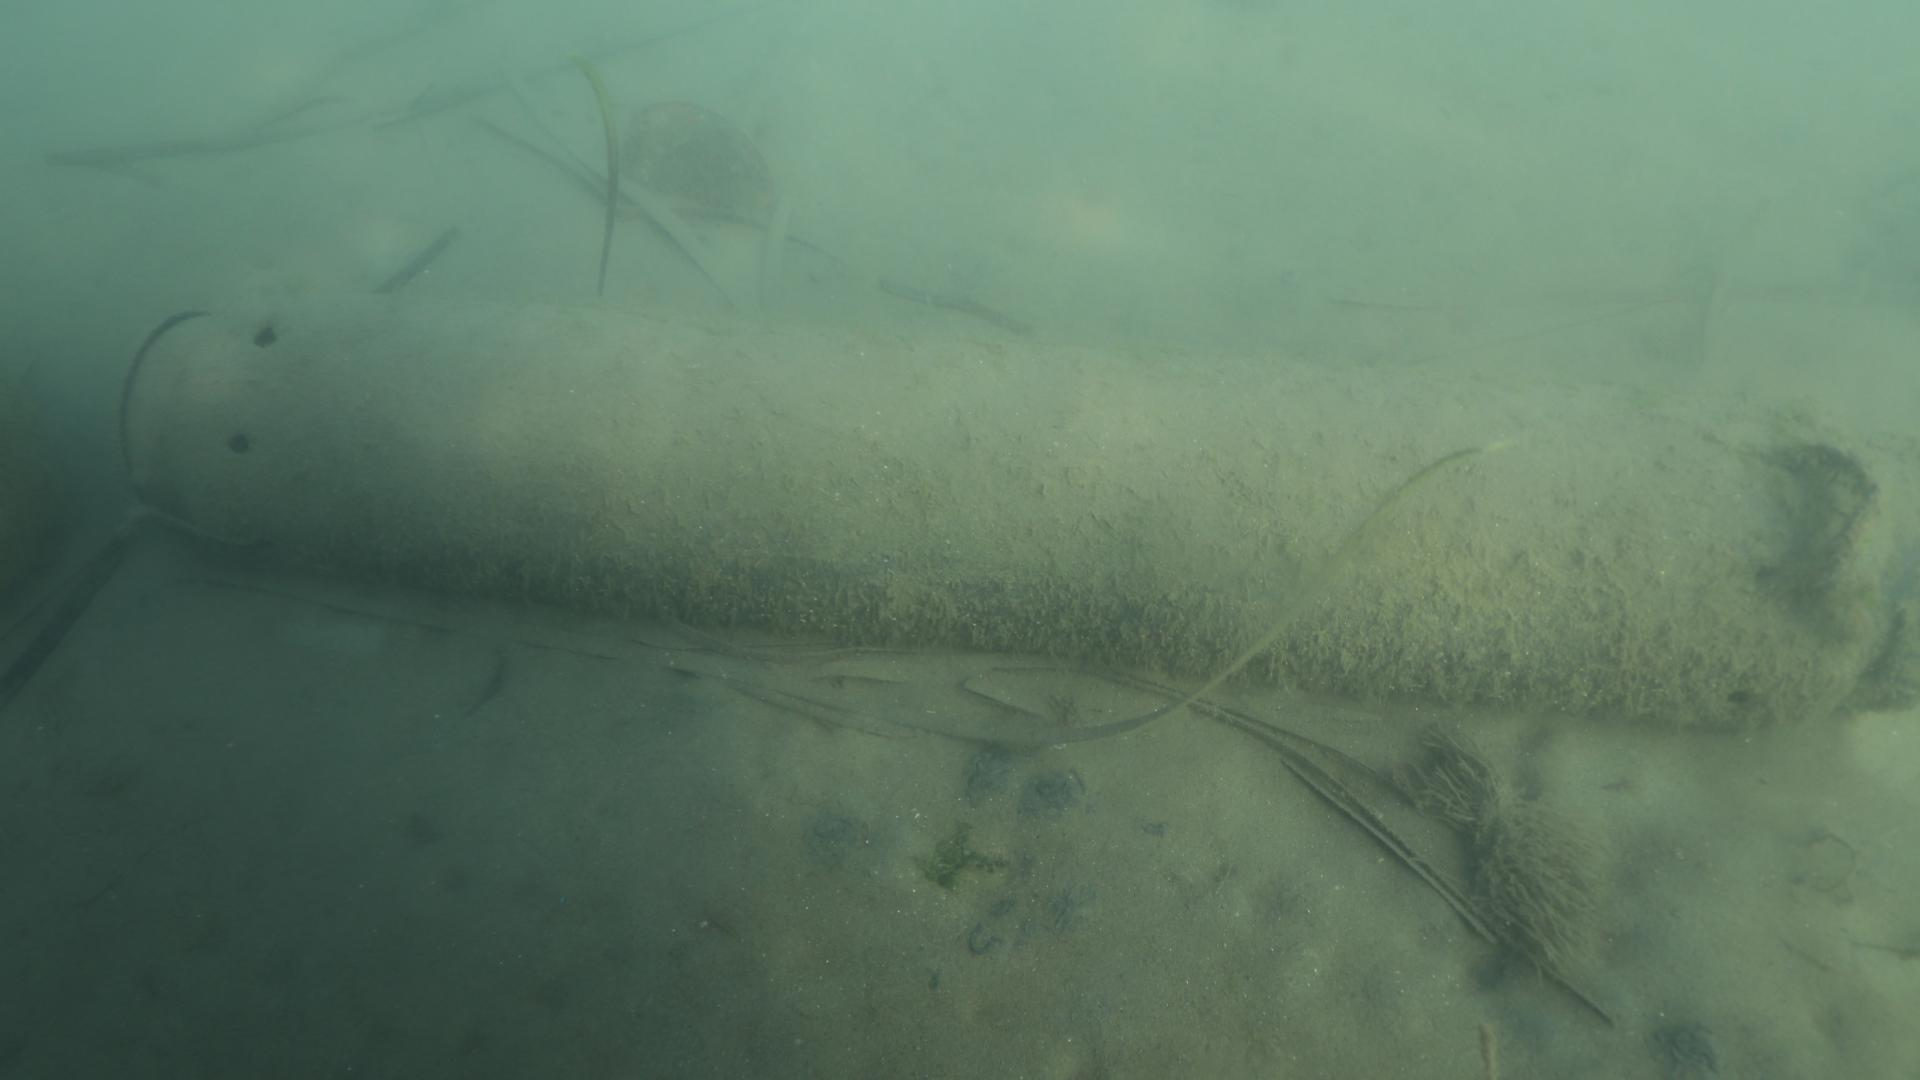eel fish trap: (115, 290, 1920, 738)
